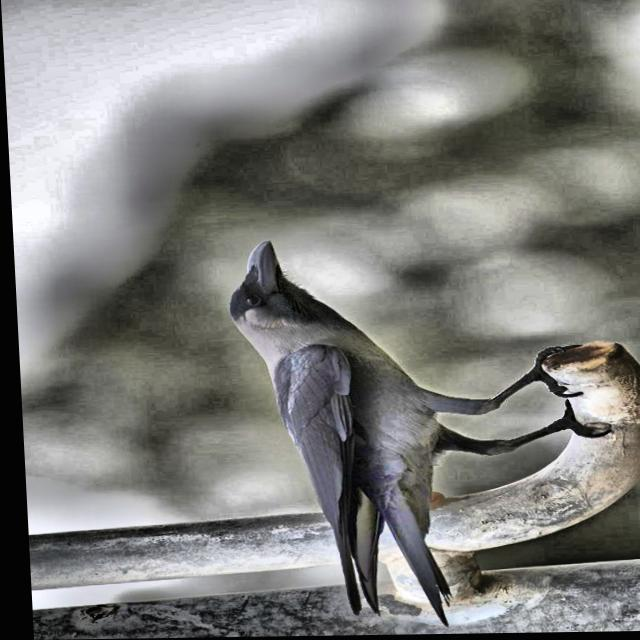crow: (213, 229, 605, 626)
